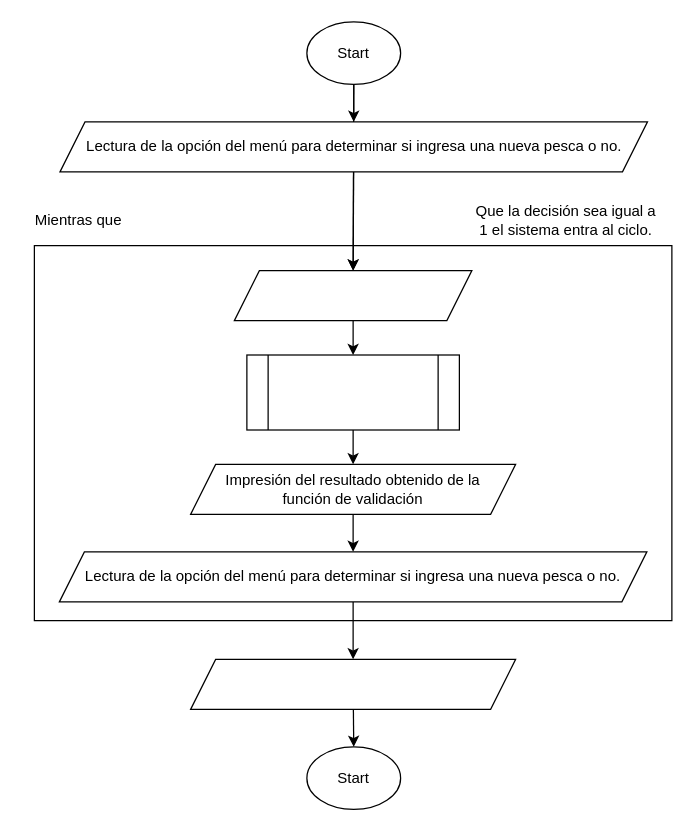
The diagram is 694 pixels wide and 831 high, and some of its shapes have lost their labels. The shapes that lost their labels are listed below. From the top down, each one's box as (x1, y1, x2, y2) in pixels, then its label:
(233, 269, 472, 321): Lectura de la cantidad de camarones por kilogramo
(246, 354, 459, 430): Función que valida la pesca y determina el resultado
(189, 658, 516, 709): Impresión de un mensaje de despedida
